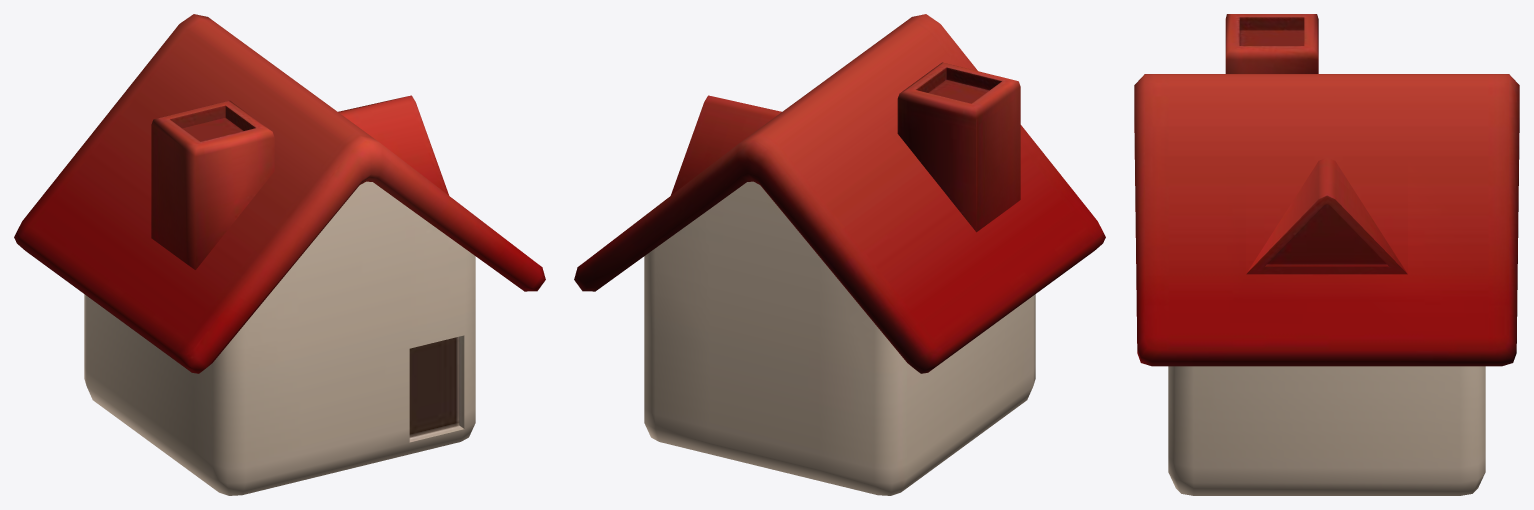
The model's file is house.glb.
The picture shows the model from 3 angles, left to right: view 1: azimuth 30°, elevation 25°; view 2: azimuth 150°, elevation 25°; view 3: azimuth 270°, elevation 25°; orthographic projection. The views are drawn at different scales.
Size of the model in its own units: 1 by 0.9169 by 0.879.
Materials: 1 (1 with a texture image).
